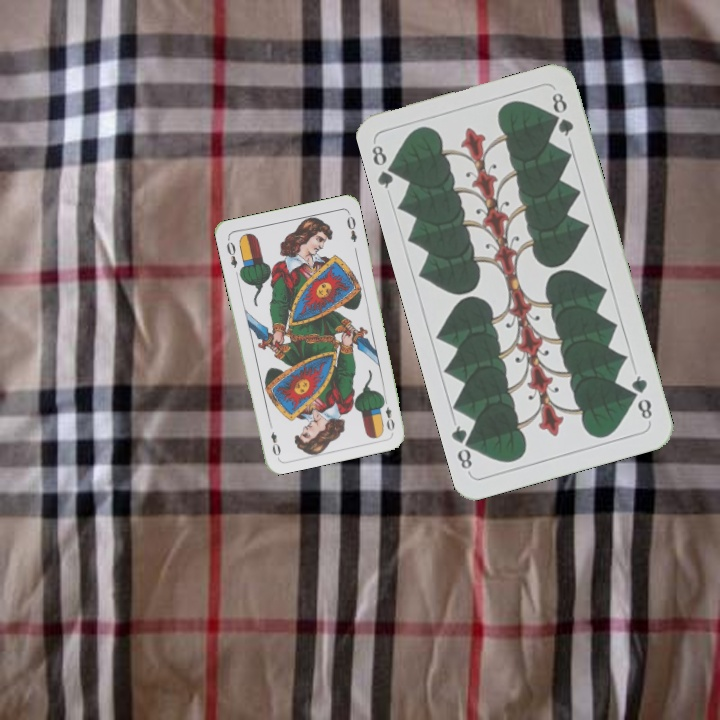EO: (378, 394, 397, 434), (222, 238, 240, 270)
G8: (367, 139, 402, 191), (627, 371, 655, 425)
